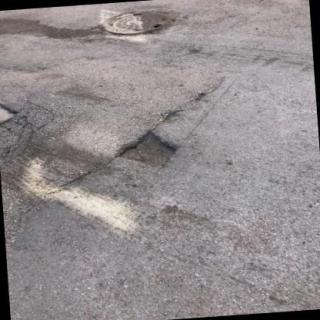pothole: (115, 132, 177, 168)
